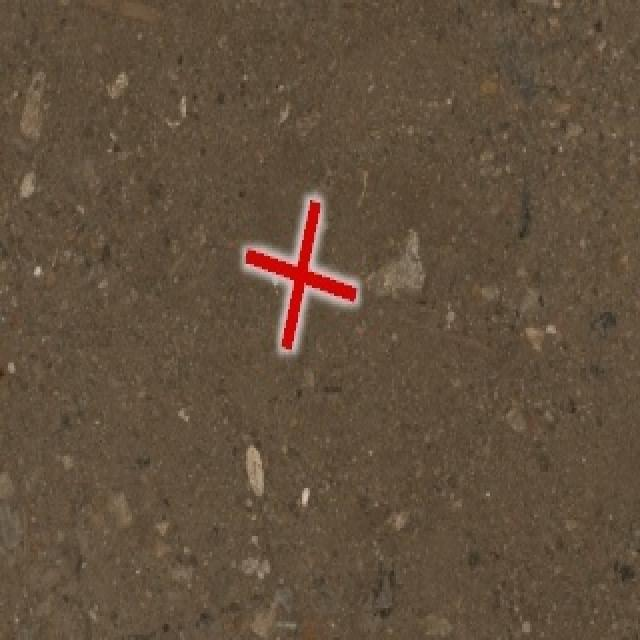x_marker: (245, 199, 355, 348)
